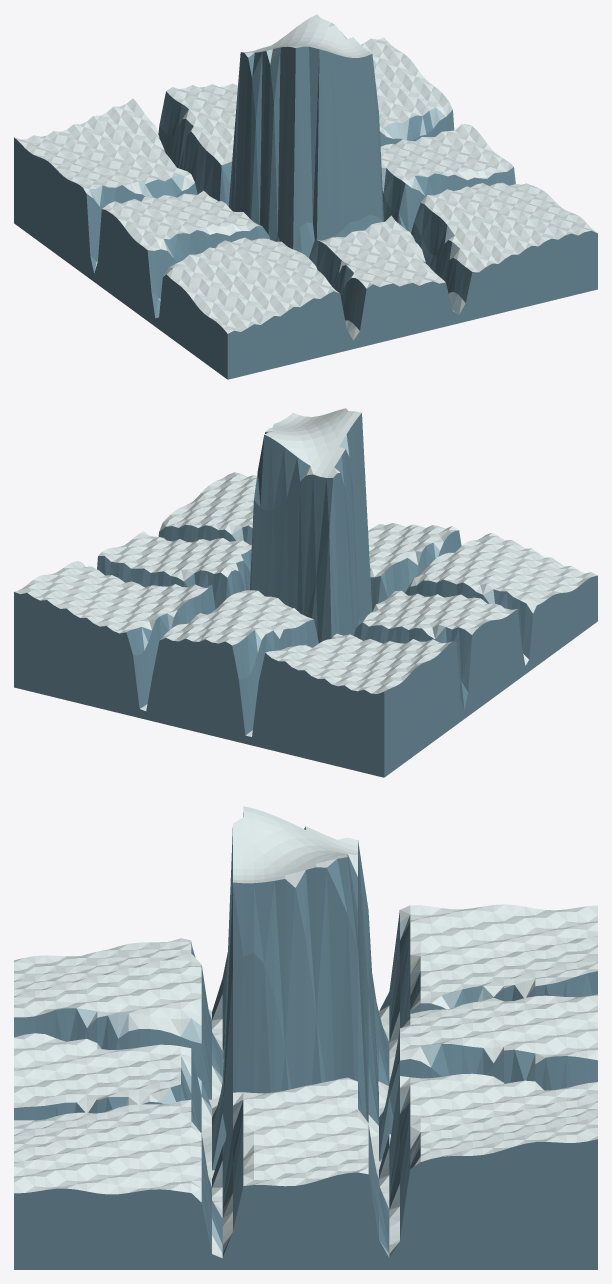
3 renders of one model, top to bottom at view 1: azimuth 30°, elevation 25°; view 2: azimuth 150°, elevation 25°; view 3: azimuth 270°, elevation 25°, orthographic. The views are drawn at different scales.
Visible parts, largest first — view 1: continuous_glacier_angular_tower_two_crossing_crevasse_syste; view 2: continuous_glacier_angular_tower_two_crossing_crevasse_syste; view 3: continuous_glacier_angular_tower_two_crossing_crevasse_syste.
Part boxes in pixels (left/top/right/bottom): continuous_glacier_angular_tower_two_crossing_crevasse_syste: left=14, top=14, right=597, bottom=379; continuous_glacier_angular_tower_two_crossing_crevasse_syste: left=14, top=408, right=597, bottom=777; continuous_glacier_angular_tower_two_crossing_crevasse_syste: left=14, top=806, right=597, bottom=1269.
Bounding box in the file's own units: 30 × 18.04 × 30.
